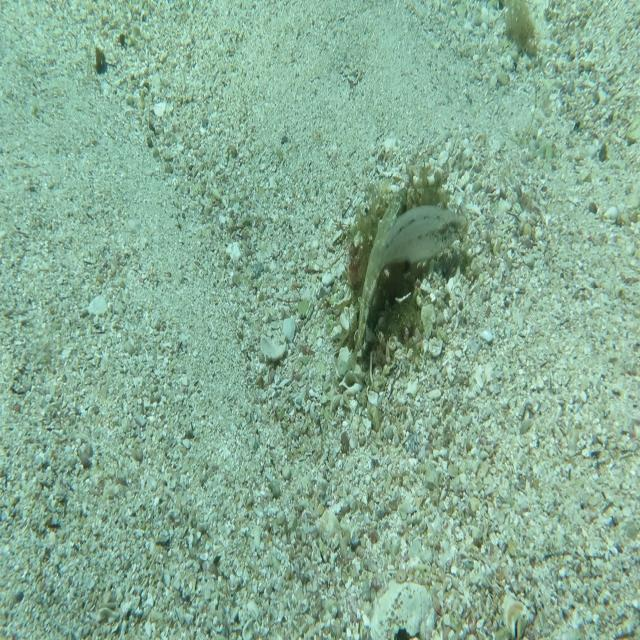ROLL: (343, 184, 409, 377)
female: (361, 198, 470, 288)
nest: (340, 156, 477, 388)
